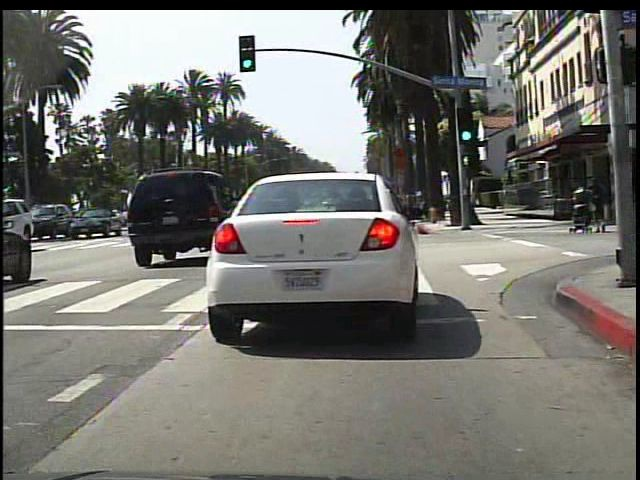person: (569, 160, 608, 239)
